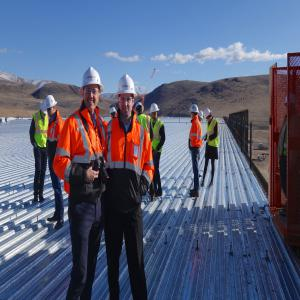white: (81, 67, 102, 114), (116, 74, 137, 118), (46, 96, 57, 119), (150, 103, 160, 121), (40, 101, 48, 120), (191, 102, 199, 120), (136, 103, 145, 118), (204, 109, 212, 124), (110, 107, 117, 120), (198, 111, 204, 124)
